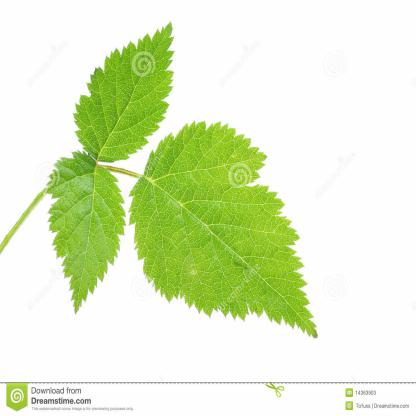strawberry leaf: (125, 119, 327, 342), (74, 20, 180, 171), (50, 146, 133, 322)
